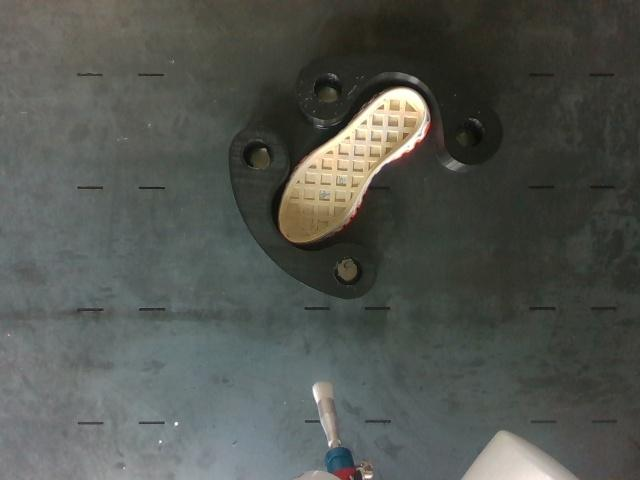shoes: (279, 89, 426, 242)
